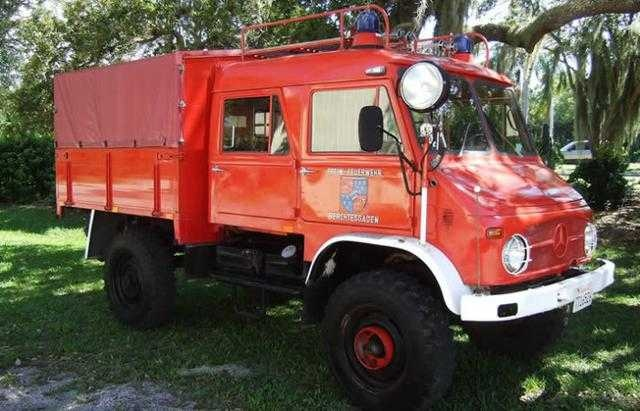Fire Truck: (32, 27, 578, 400)
